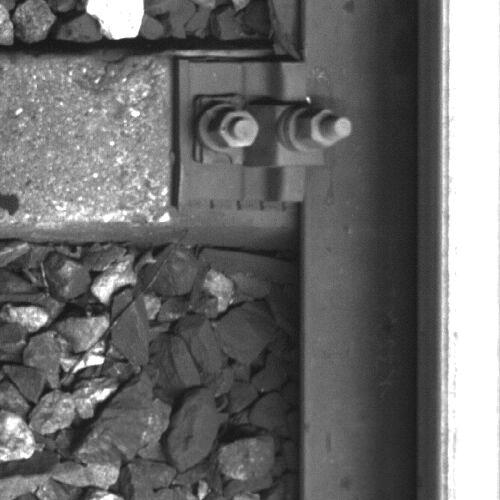kb: (184, 63, 350, 207)
nut: (294, 106, 353, 153), (207, 106, 261, 152)
rail: (438, 1, 500, 500)
tie_concr: (1, 55, 296, 221)
